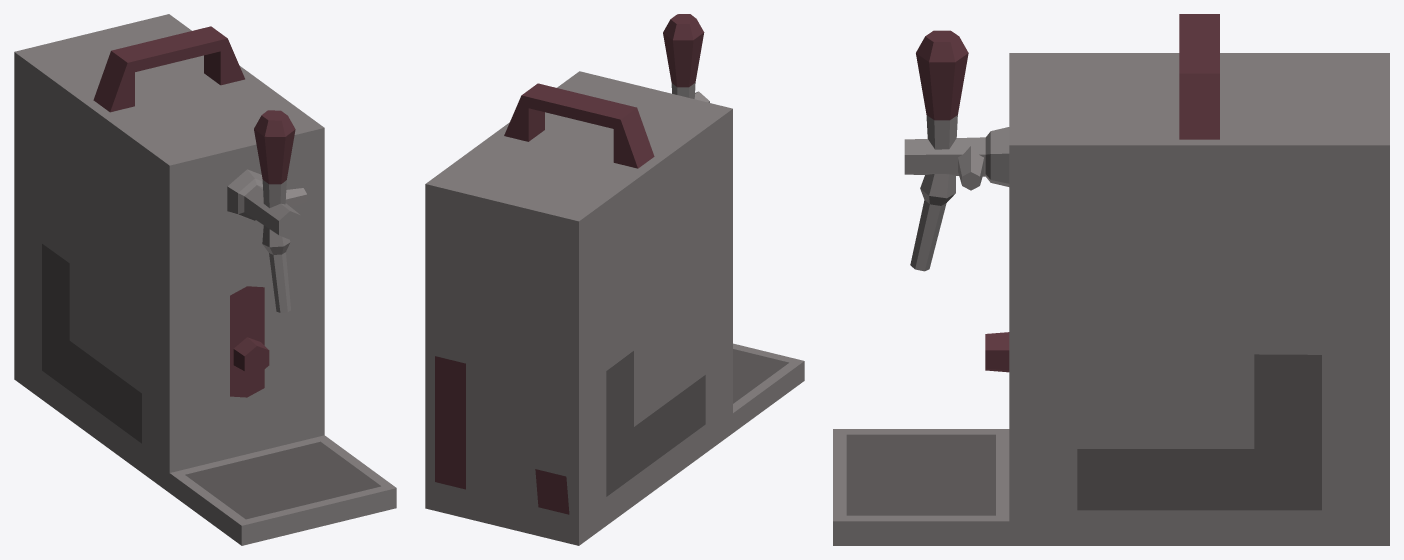
The model's file is beer-tap.fbx.
The picture shows the model from 3 angles, left to right: view 1: azimuth 30°, elevation 25°; view 2: azimuth 150°, elevation 25°; view 3: azimuth 270°, elevation 25°; orthographic projection. The views are drawn at different scales.
Visible parts, largest first — view 1: beer-tap; view 2: beer-tap; view 3: beer-tap.
Part boxes in pixels (left/top/right/bottom): beer-tap: left=14, top=14, right=396, bottom=545; beer-tap: left=425, top=14, right=804, bottom=545; beer-tap: left=833, top=14, right=1389, bottom=545.
Bounding box in the file's own units: 0.1774 × 0.4145 × 0.4514.
